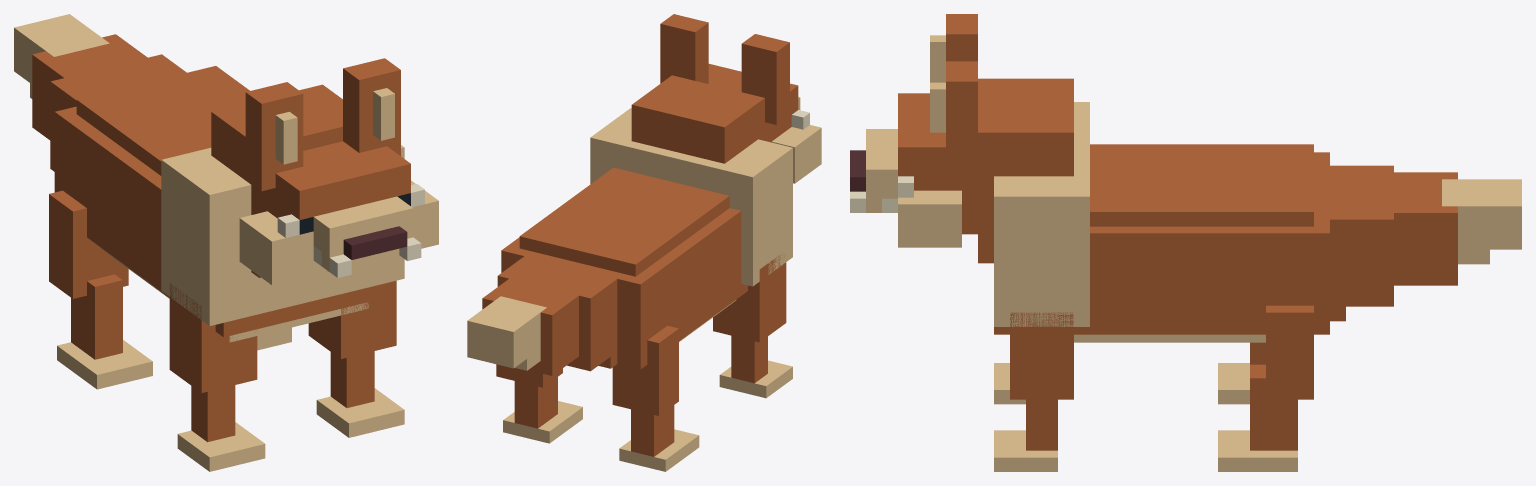
The model's file is copper_fox.glb.
3 views of the same model, side by side, from view 1: azimuth 30°, elevation 25°; view 2: azimuth 150°, elevation 25°; view 3: azimuth 270°, elevation 25° (orthographic). The views are drawn at different scales.
Visible parts, largest first — view 1: copper_fox/thorax, copper_fox/head, copper_fox/left_hindleg, copper_fox/left_foreleg, copper_fox/tail, copper_fox/right_foreleg, copper_fox/head_ear_l, copper_fox/head_ear_r, copper_fox/neck, copper_fox/right_hindleg; view 2: copper_fox/thorax, copper_fox/tail, copper_fox/neck, copper_fox/left_hindleg, copper_fox/left_foreleg, copper_fox/right_hindleg, copper_fox/head_ear_l, copper_fox/head, copper_fox/head_ear_r; view 3: copper_fox/thorax, copper_fox/tail, copper_fox/head, copper_fox/neck, copper_fox/right_hindleg, copper_fox/right_foreleg, copper_fox/head_ear_r, copper_fox/head_ear_l, copper_fox/left_hindleg, copper_fox/left_foreleg.
Part boxes in pixels (box(x1,y1,x2,y2)): copper_fox/thorax: box(54, 66, 404, 342); copper_fox/head: box(239, 141, 438, 284); copper_fox/left_hindleg: box(49, 190, 152, 389); copper_fox/left_foreleg: box(169, 283, 265, 471); copper_fox/tail: box(14, 14, 186, 171); copper_fox/right_foreleg: box(308, 280, 404, 437); copper_fox/head_ear_l: box(245, 82, 303, 191); copper_fox/head_ear_r: box(343, 58, 400, 155); copper_fox/neck: box(211, 84, 342, 277); copper_fox/right_hindleg: box(257, 327, 291, 350); copper_fox/thorax: box(501, 108, 792, 369); copper_fox/tail: box(467, 251, 623, 375); copper_fox/neck: box(631, 75, 764, 163); copper_fox/left_hindleg: box(612, 325, 699, 471); copper_fox/left_foreleg: box(713, 255, 792, 398); copper_fox/right_hindleg: box(496, 364, 582, 443); copper_fox/head_ear_l: box(741, 34, 789, 124); copper_fox/head: box(708, 64, 821, 183); copper_fox/head_ear_r: box(660, 14, 708, 83); copper_fox/thorax: box(994, 102, 1329, 342); copper_fox/tail: box(1314, 165, 1521, 321); copper_fox/head: box(850, 93, 1009, 247); copper_fox/neck: box(978, 78, 1073, 263); copper_fox/right_hindleg: box(1218, 305, 1313, 471); copper_fox/right_foreleg: box(994, 312, 1073, 471); copper_fox/head_ear_r: box(930, 61, 977, 168); copper_fox/head_ear_l: box(930, 14, 977, 82); copper_fox/left_hindleg: box(1218, 342, 1265, 404); copper_fox/left_foreleg: box(994, 363, 1025, 404).
Size of the model in its own units: 0.4375 by 0.8125 by 1.31.
